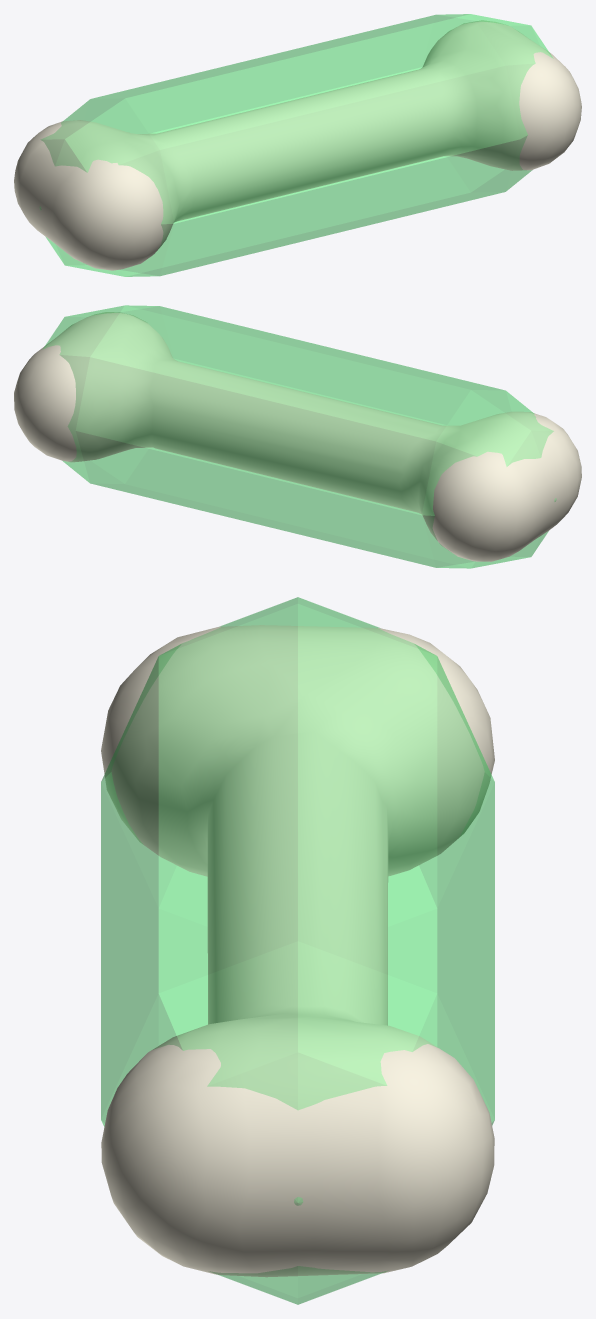
Rendered from Piece_05_FunnyBone.fbx.
3 renders of one model, top to bottom at view 1: azimuth 30°, elevation 25°; view 2: azimuth 150°, elevation 25°; view 3: azimuth 270°, elevation 25°, orthographic. The views are drawn at different scales.
Visible parts, largest first — view 1: COL_Piece_05, Piece_05_FunnyBone; view 2: COL_Piece_05, Piece_05_FunnyBone; view 3: Piece_05_FunnyBone, COL_Piece_05.
Part boxes in pixels (x1=…): COL_Piece_05: x1=40, y1=14, x2=553, y2=276; Piece_05_FunnyBone: x1=14, y1=20, x2=581, y2=270; COL_Piece_05: x1=43, y1=305, x2=556, y2=568; Piece_05_FunnyBone: x1=14, y1=312, x2=581, y2=561; Piece_05_FunnyBone: x1=101, y1=625, x2=494, y2=1277; COL_Piece_05: x1=101, y1=597, x2=494, y2=1304.
Size of the model in its own units: 0.0689 by 0.0228 by 0.0228.
